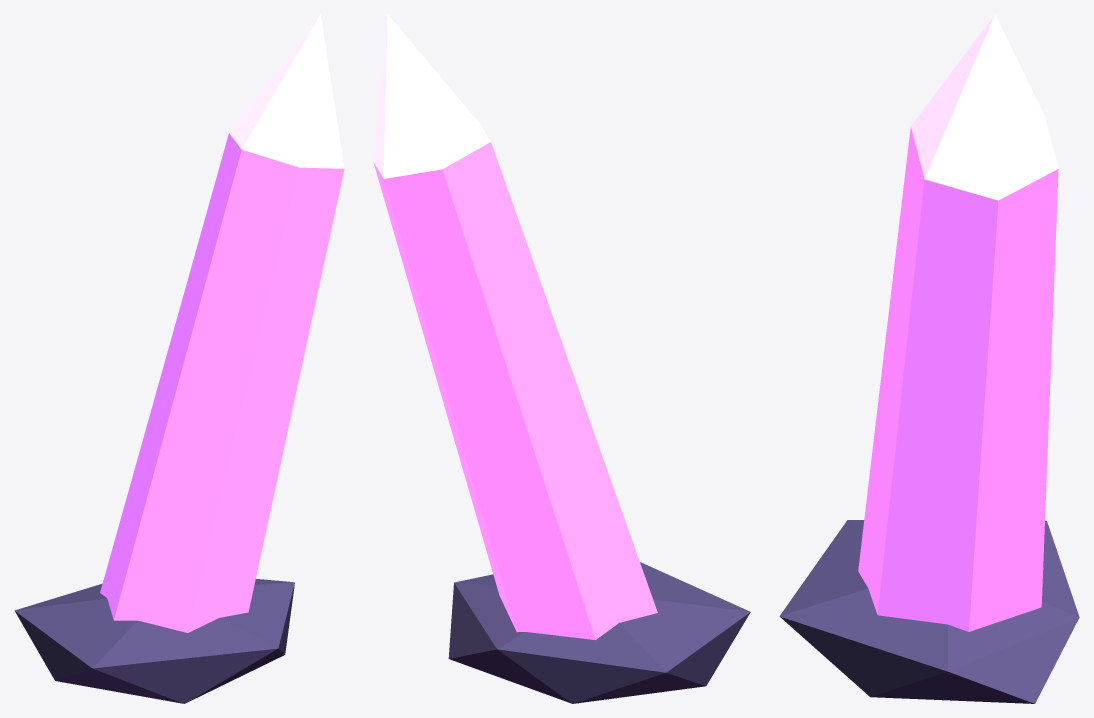
File: Energy_Crystal_Shard.glb
The picture shows the model from 3 angles, left to right: view 1: azimuth 30°, elevation 25°; view 2: azimuth 150°, elevation 25°; view 3: azimuth 270°, elevation 25°; orthographic projection. The views are drawn at different scales.
Parts seen in each view (by area): view 1: Energy_Crystal_Shard; view 2: Energy_Crystal_Shard; view 3: Energy_Crystal_Shard.
Part boxes in pixels (x1=…): Energy_Crystal_Shard: x1=14, y1=14, x2=344, y2=703; Energy_Crystal_Shard: x1=373, y1=14, x2=750, y2=703; Energy_Crystal_Shard: x1=779, y1=14, x2=1079, y2=703.
Bounding box in the file's own units: 1.77 × 3.32 × 1.22.
1 material, 1 textured.
